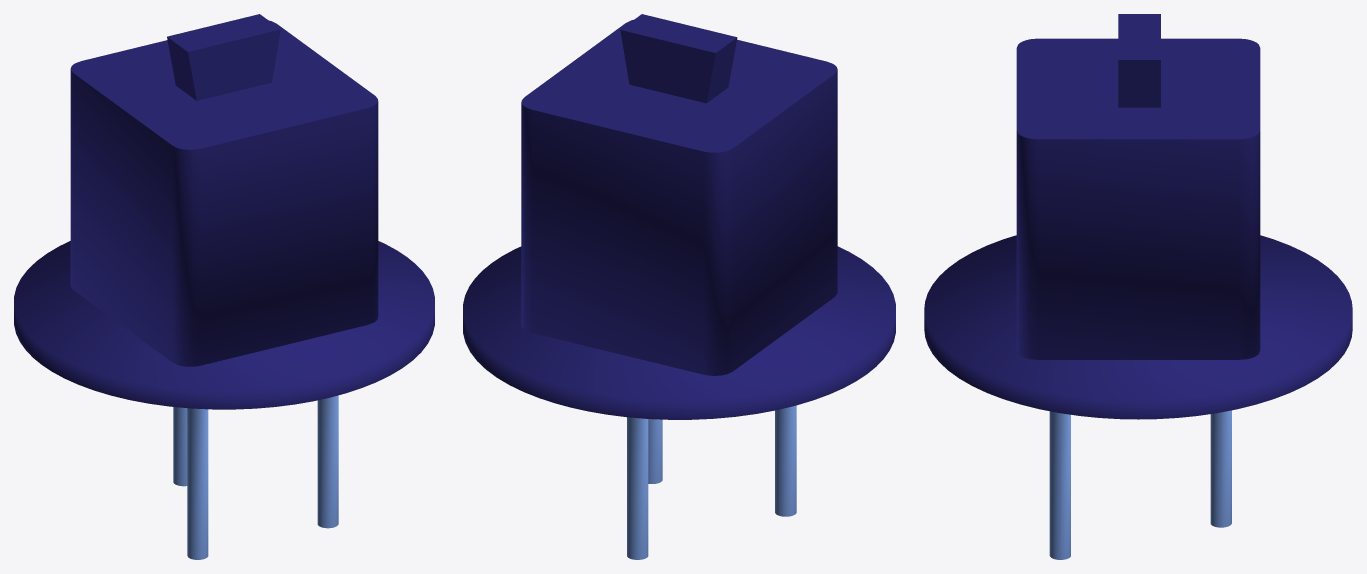
The model's file is 1957_transistor_v2.fbx.
The picture shows the model from 3 angles, left to right: view 1: azimuth 30°, elevation 25°; view 2: azimuth 150°, elevation 25°; view 3: azimuth 270°, elevation 25°; orthographic projection. The views are drawn at different scales.
Parts seen in each view (by area): view 1: 1957_transistor; view 2: 1957_transistor; view 3: 1957_transistor.
Part boxes in pixels (x1,y1,x2,y2): 1957_transistor: [14, 14, 434, 559]; 1957_transistor: [463, 14, 895, 559]; 1957_transistor: [924, 14, 1352, 559].
Size of the model in its own units: 260 by 325 by 260.
